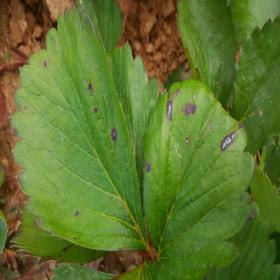Leaf Spot: (9, 0, 159, 251), (118, 79, 255, 279)
